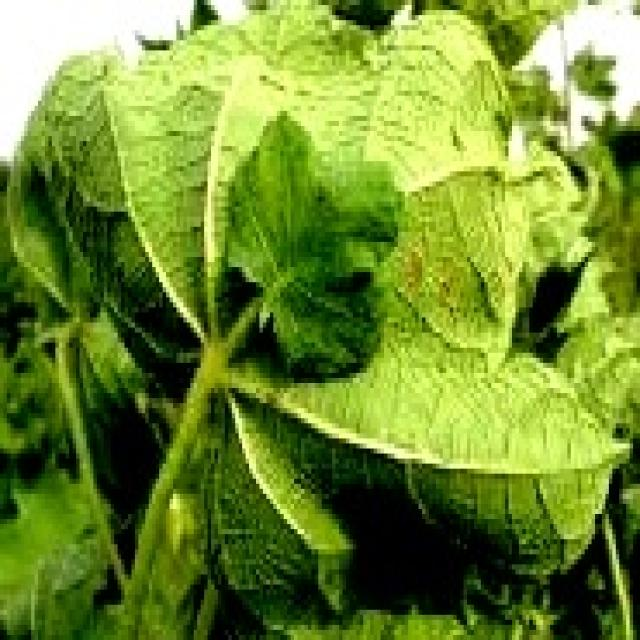Leaf Curl Virus: (96, 59, 476, 387)
